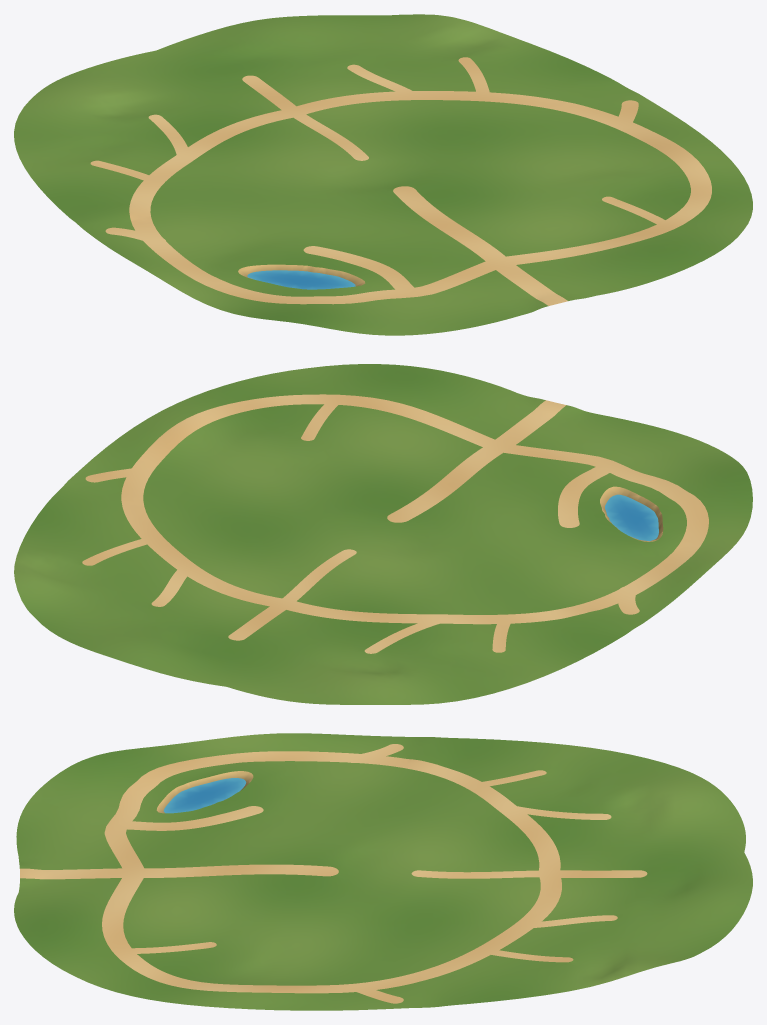
The model's file is FF_playground.glb.
3 views of the same model, one above another, from view 1: azimuth 30°, elevation 25°; view 2: azimuth 150°, elevation 25°; view 3: azimuth 270°, elevation 25° (orthographic). The views are drawn at different scales.
Parts seen in each view (by area): view 1: Grass_Terrain, Dirt_Paths, Fishing_Pond_Water, Fishing_Pond_Basin; view 2: Grass_Terrain, Dirt_Paths, Fishing_Pond_Water, Fishing_Pond_Basin; view 3: Grass_Terrain, Dirt_Paths, Fishing_Pond_Water, Fishing_Pond_Basin.
Boxes of the visible parts, x1,y1,x2,y2 form: Grass_Terrain: (14,14,752,335); Dirt_Paths: (90,57,711,305); Fishing_Pond_Water: (247,270,355,289); Fishing_Pond_Basin: (238,264,365,289); Grass_Terrain: (14,364,752,704); Dirt_Paths: (82,394,708,653); Fishing_Pond_Water: (605,494,658,541); Fishing_Pond_Basin: (600,486,663,541); Grass_Terrain: (14,733,752,1010); Dirt_Paths: (20,744,647,1003); Fishing_Pond_Water: (163,778,246,813); Fishing_Pond_Basin: (156,771,253,813).
Size of the model in its own units: 300 by 8.14 by 340.
